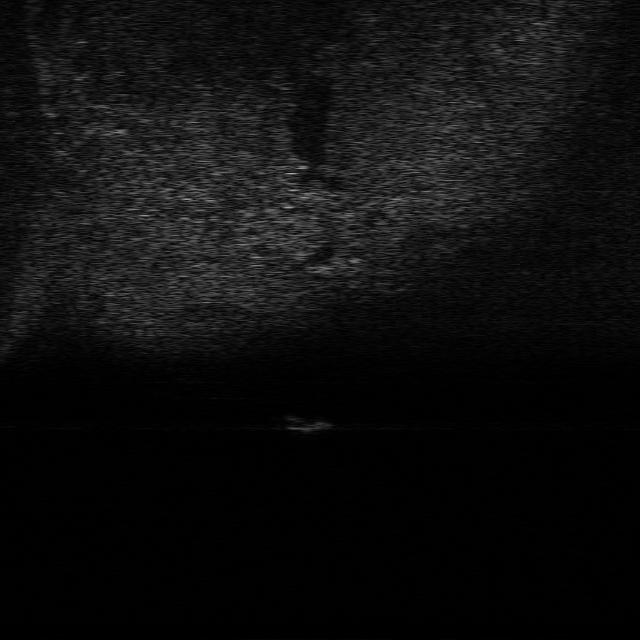cube: (284, 410, 328, 433)
